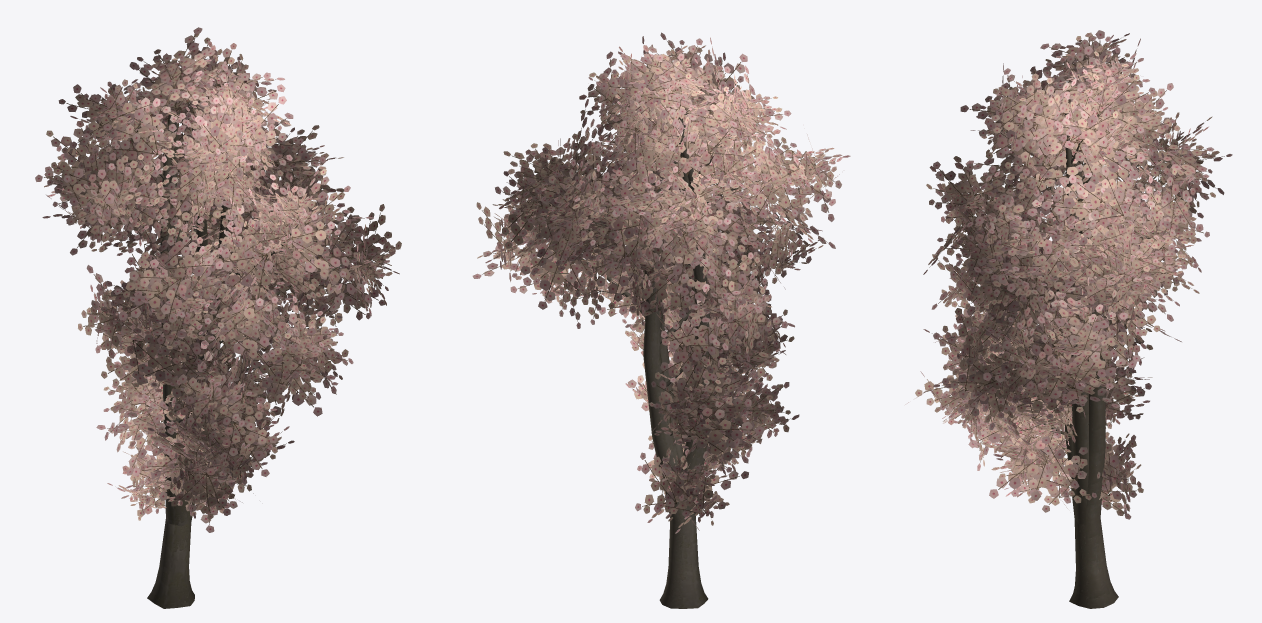
The model's file is tree_cherry.glb.
3 renders of one model, left to right at view 1: azimuth 30°, elevation 25°; view 2: azimuth 150°, elevation 25°; view 3: azimuth 270°, elevation 25°, orthographic.
Visible parts, largest first — view 1: plant; view 2: plant; view 3: plant.
Part boxes in pixels (x1,y1,x2,y2): plant: (35,27,401,608); plant: (472,32,850,608); plant: (905,30,1232,608).
Bounding box in the file's own units: 8.23 × 11.6 × 6.47.
Materials: 2 (2 with a texture image).
